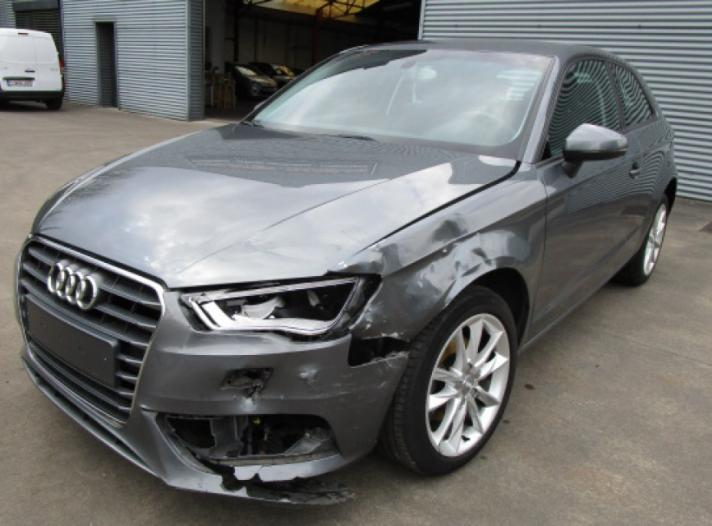Back-wheel: (615, 195, 669, 285)
Back-window: (609, 63, 654, 127)
Fender: (329, 162, 547, 348)
Front-bumper: (14, 244, 409, 505)
Front-door: (528, 54, 643, 342)
Front-wheel: (376, 285, 519, 479)
Front-window: (548, 60, 620, 156)
Grille: (18, 235, 165, 423)
Headlight: (178, 273, 381, 343)
Hood: (30, 124, 521, 287)
Mirror: (561, 123, 628, 178)
Quarter-panel: (625, 116, 677, 259)
Rocker-panel: (521, 249, 641, 353)
Roof: (345, 39, 629, 63)
Windshield: (253, 49, 555, 160)
